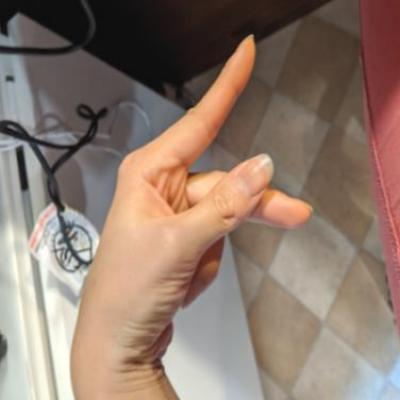hand: (62, 24, 326, 370)
